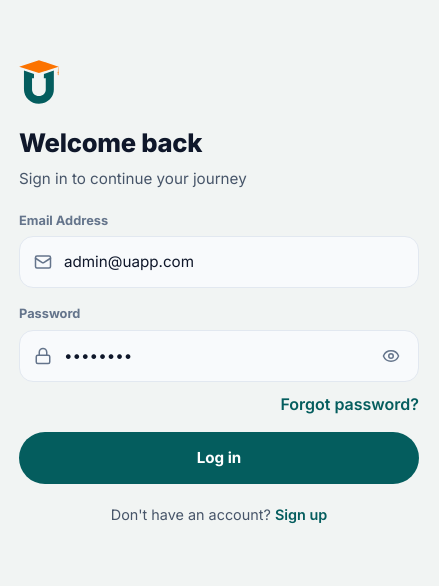
Test: <LoginPage /> › shows a validation-driven error when authentication fails
The width and height of the screenshot is (439, 586).
Replace the text in the field labelled "Email Address" with "user@example.com" at (233, 262), box [62, 250, 404, 275]
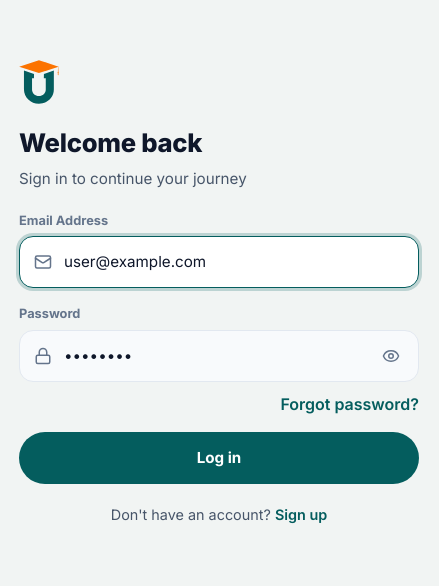
Type "wrong-password" into the password field labelled "Password" at (215, 356), box [62, 344, 368, 368]
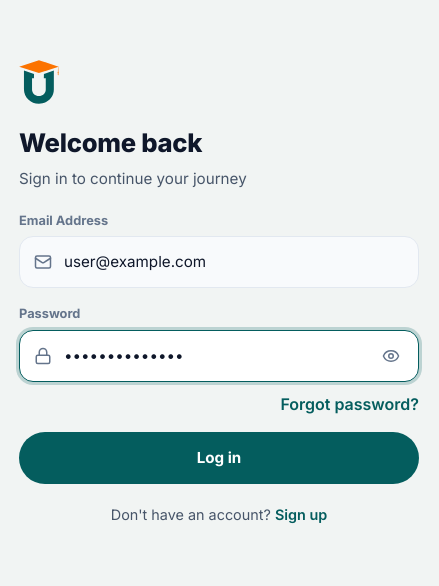
Click the button "Log in" at (219, 458), box [19, 432, 419, 484]
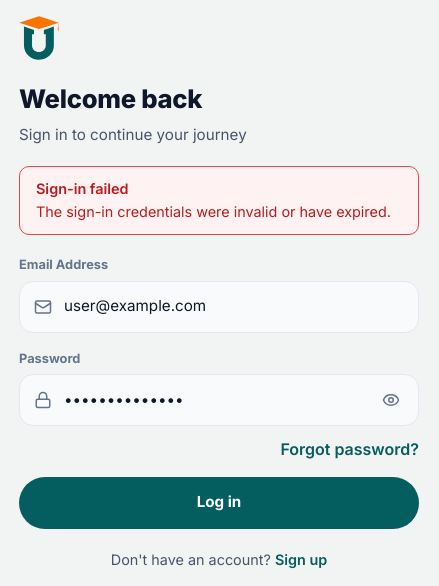
Check: the message shows "invalid or have expired", box [36, 203, 391, 220]
